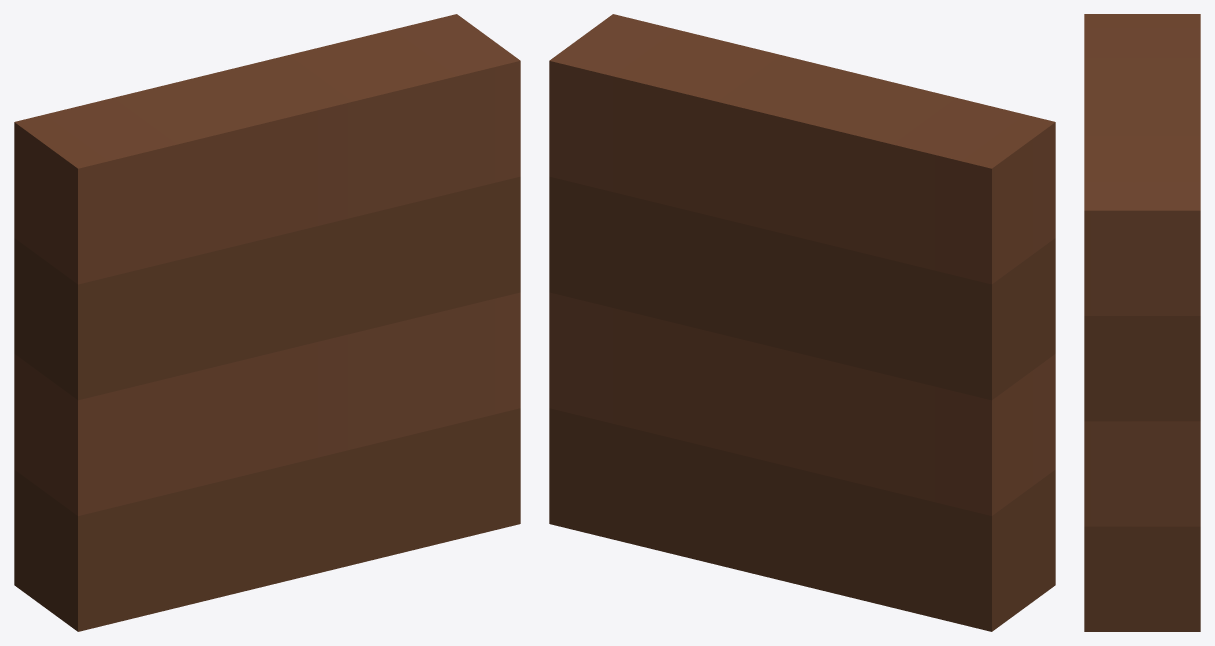
The model's file is Wall.fbx.
The picture shows the model from 3 angles, left to right: view 1: azimuth 30°, elevation 25°; view 2: azimuth 150°, elevation 25°; view 3: azimuth 270°, elevation 25°; orthographic projection. The views are drawn at different scales.
Parts seen in each view (by area): view 1: pCube1; view 2: pCube1; view 3: pCube1.
Boxes of the visible parts, x1,y1,x2,y2 form: pCube1: (14, 14, 520, 631); pCube1: (549, 14, 1055, 631); pCube1: (1084, 14, 1200, 631).
Size of the model in its own units: 1 by 1 by 0.25.
